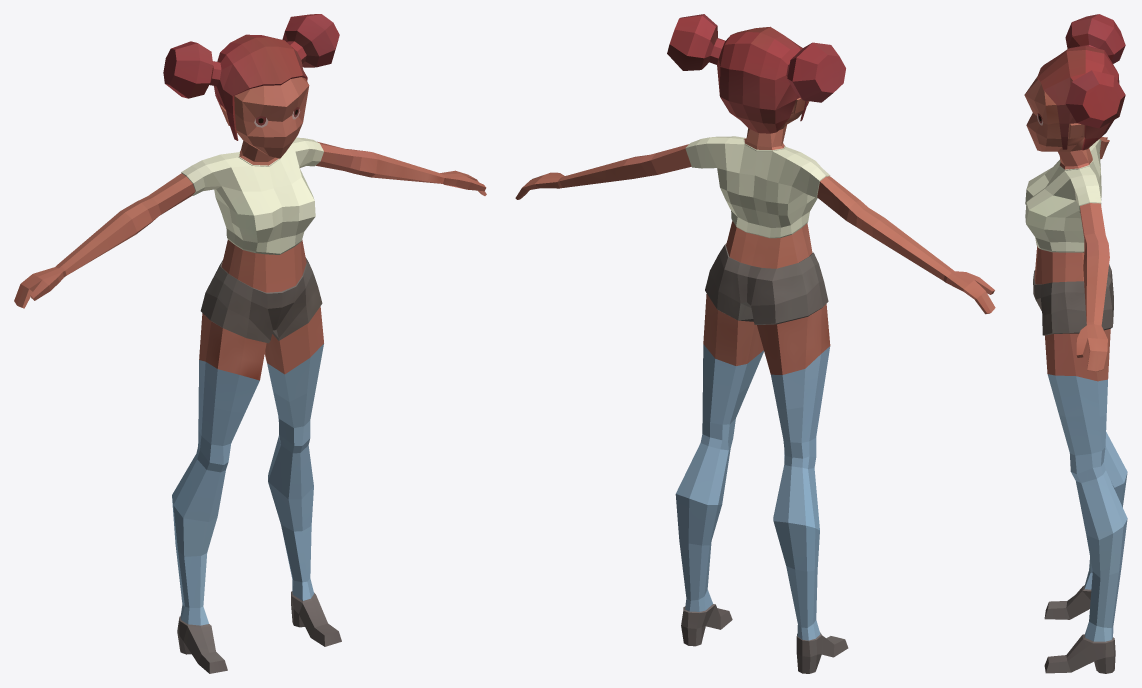
The model's file is Low Poly Girl53.fbx.
3 views of the same model, side by side, from view 1: azimuth 30°, elevation 25°; view 2: azimuth 150°, elevation 25°; view 3: azimuth 270°, elevation 25° (orthographic). The views are drawn at different scales.
Visible parts, largest first — view 1: Woman Hips.002; view 2: Woman Hips.002; view 3: Woman Hips.002.
Part boxes in pixels (box(x1,y1,x2,y2)): Woman Hips.002: box(14, 14, 486, 673); Woman Hips.002: box(515, 14, 995, 673); Woman Hips.002: box(1024, 14, 1127, 673).
Size of the model in its own units: 122 by 153 by 23.85.
